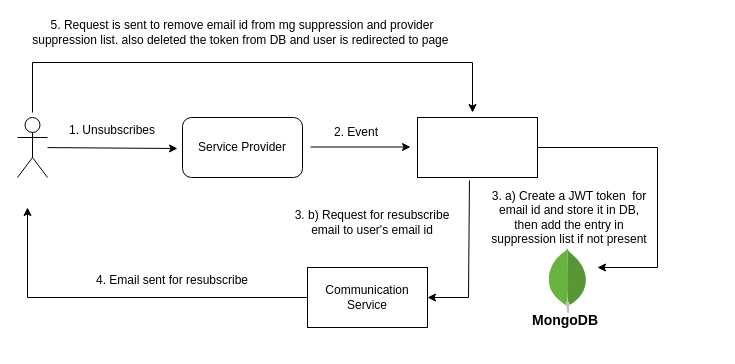
Some shapes in this 735 by 364 pixel diagram are drawn without their labels. Each missing label, with the centre of its shape:
Actor: [32,147]
Webhook Service: [477,147]
